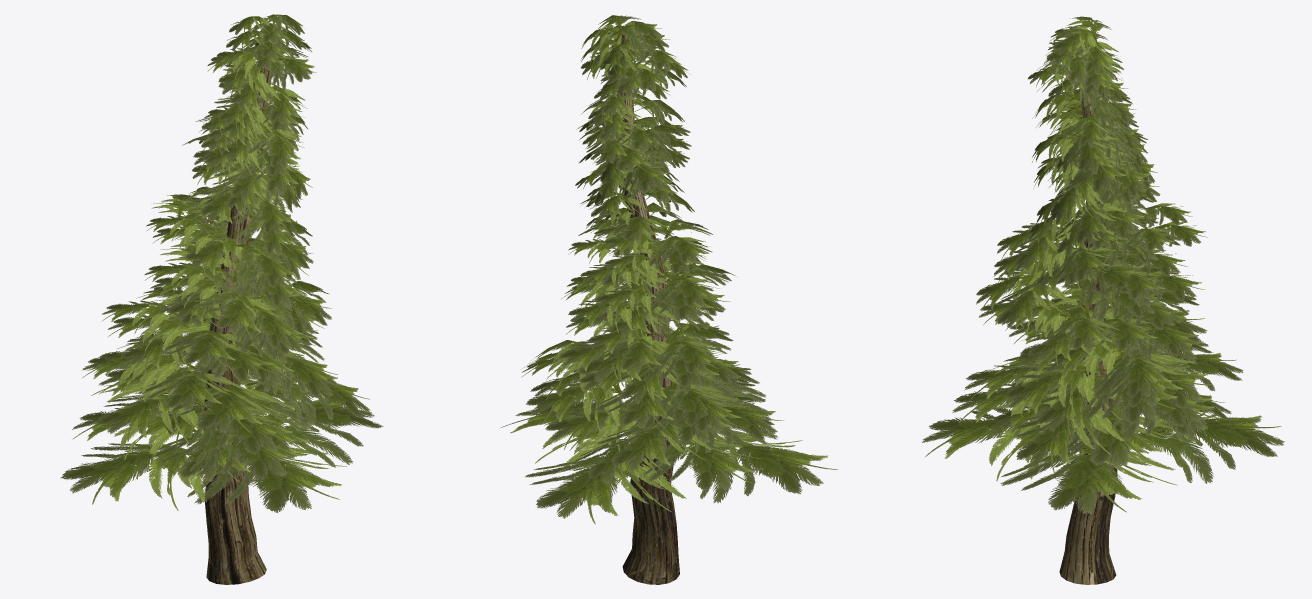
File: Tree.fbx
3 views of the same model, side by side, from view 1: azimuth 30°, elevation 25°; view 2: azimuth 150°, elevation 25°; view 3: azimuth 270°, elevation 25° (orthographic). The views are drawn at different scales.
Parts seen in each view (by area): view 1: Tree, pPlane8, pPlane9, pPlane11, pPlane57, pPlane15, pPlane17, pPlane19, pPlane74, pPlane59, pPlane105, pPlane13 (+45 smaller); view 2: Tree, pPlane10, pPlane8, pPlane12, pPlane16, pPlane58, pPlane18, pPlane17, pPlane52, pPlane63, pPlane11, pPlane81 (+34 smaller); view 3: pPlane11, Tree, pPlane10, pPlane9, pPlane59, pPlane60, pPlane14, pPlane94, pPlane55, pPlane61, pPlane103, pPlane75 (+54 smaller).
Boxes of the visible parts, left/top/right/bottom form: Tree: left=203, top=23, right=271, bottom=584; pPlane8: left=60, top=443, right=206, bottom=510; pPlane9: left=187, top=446, right=346, bottom=512; pPlane11: left=252, top=399, right=383, bottom=467; pPlane57: left=168, top=386, right=290, bottom=433; pPlane15: left=190, top=429, right=304, bottom=479; pPlane17: left=97, top=394, right=203, bottom=442; pPlane19: left=186, top=406, right=294, bottom=454; pPlane74: left=138, top=371, right=245, bottom=411; pPlane59: left=247, top=371, right=370, bottom=425; pPlane105: left=193, top=292, right=277, bottom=337; pPlane13: left=153, top=430, right=251, bottom=481; Tree: left=620, top=26, right=679, bottom=584; pPlane10: left=525, top=456, right=686, bottom=524; pPlane8: left=700, top=433, right=838, bottom=503; pPlane12: left=643, top=439, right=761, bottom=490; pPlane16: left=597, top=422, right=713, bottom=473; pPlane58: left=526, top=382, right=631, bottom=431; pPlane18: left=545, top=407, right=639, bottom=451; pPlane17: left=673, top=399, right=784, bottom=453; pPlane52: left=647, top=384, right=736, bottom=426; pPlane63: left=596, top=387, right=680, bottom=428; pPlane11: left=500, top=400, right=632, bottom=466; pPlane81: left=651, top=341, right=725, bottom=374; pPlane11: left=1000, top=444, right=1177, bottom=514; Tree: left=1059, top=88, right=1117, bottom=584; pPlane10: left=1136, top=412, right=1284, bottom=483; pPlane9: left=922, top=408, right=1078, bottom=481; pPlane59: left=1015, top=403, right=1124, bottom=472; pPlane60: left=1004, top=363, right=1106, bottom=416; pPlane14: left=1047, top=414, right=1184, bottom=465; pPlane94: left=1097, top=353, right=1184, bottom=397; pPlane55: left=1037, top=374, right=1126, bottom=435; pPlane61: left=1080, top=370, right=1184, bottom=423; pPlane103: left=996, top=282, right=1071, bottom=328; pPlane75: left=1091, top=355, right=1199, bottom=407.
Bounding box in the file's own units: 18.4 × 29.68 × 18.53.
